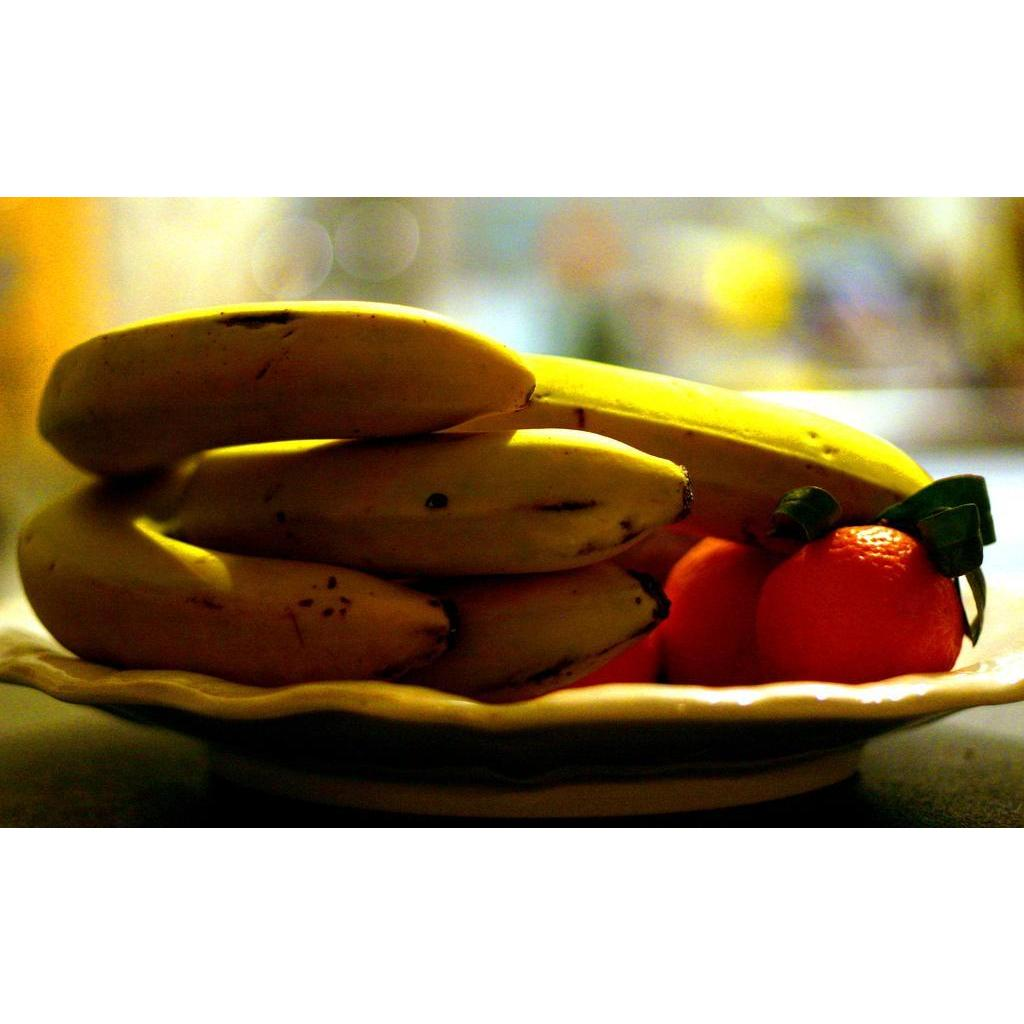banana: (13, 475, 457, 687), (36, 301, 536, 480), (185, 428, 695, 584)
